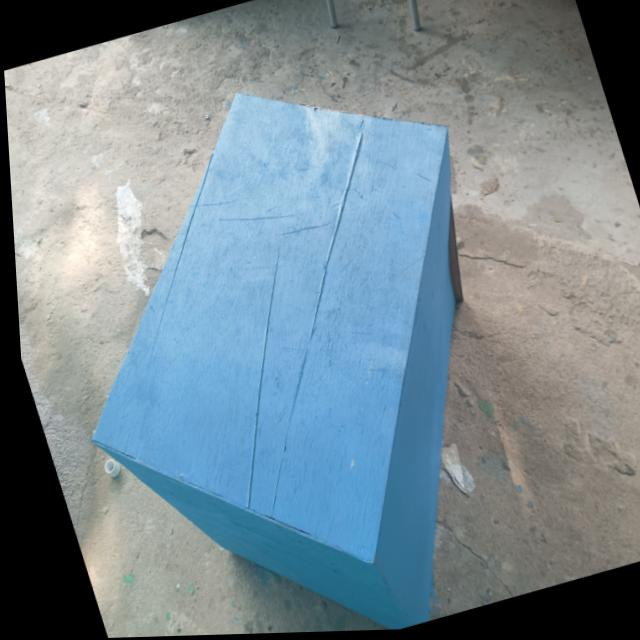blue_box: (4, 36, 579, 640)
